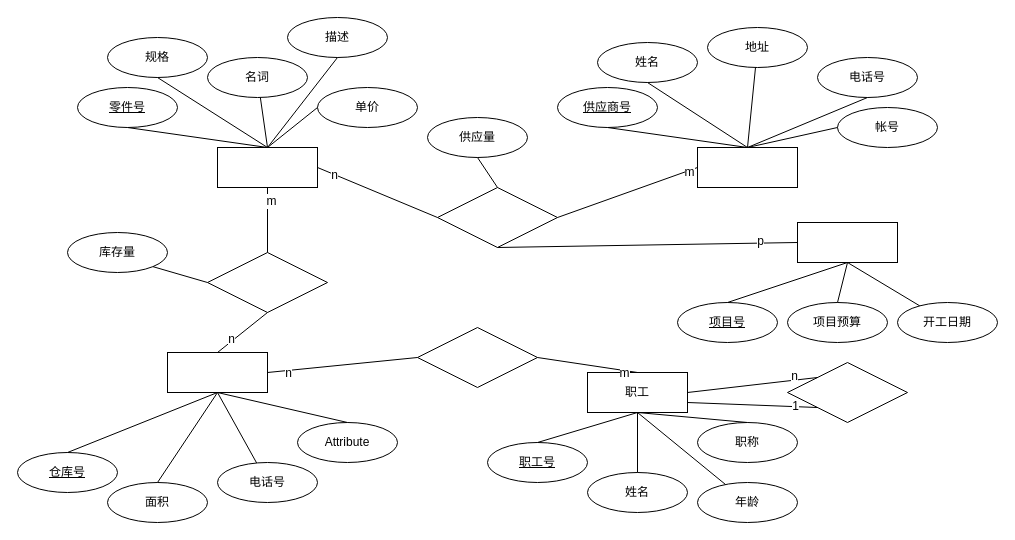
Image size: 1015x540. Some labels were removed from this diagram. The box of each missing label's shape, as (x1, y1, x2, y2) in pixels:
仓库: (166, 352, 268, 392)
供应: (436, 186, 558, 248)
供应商: (696, 146, 798, 188)
库存: (206, 252, 328, 312)
管理: (416, 326, 538, 388)
零件: (216, 146, 318, 188)
项目: (796, 222, 898, 262)
领导: (786, 362, 908, 422)
